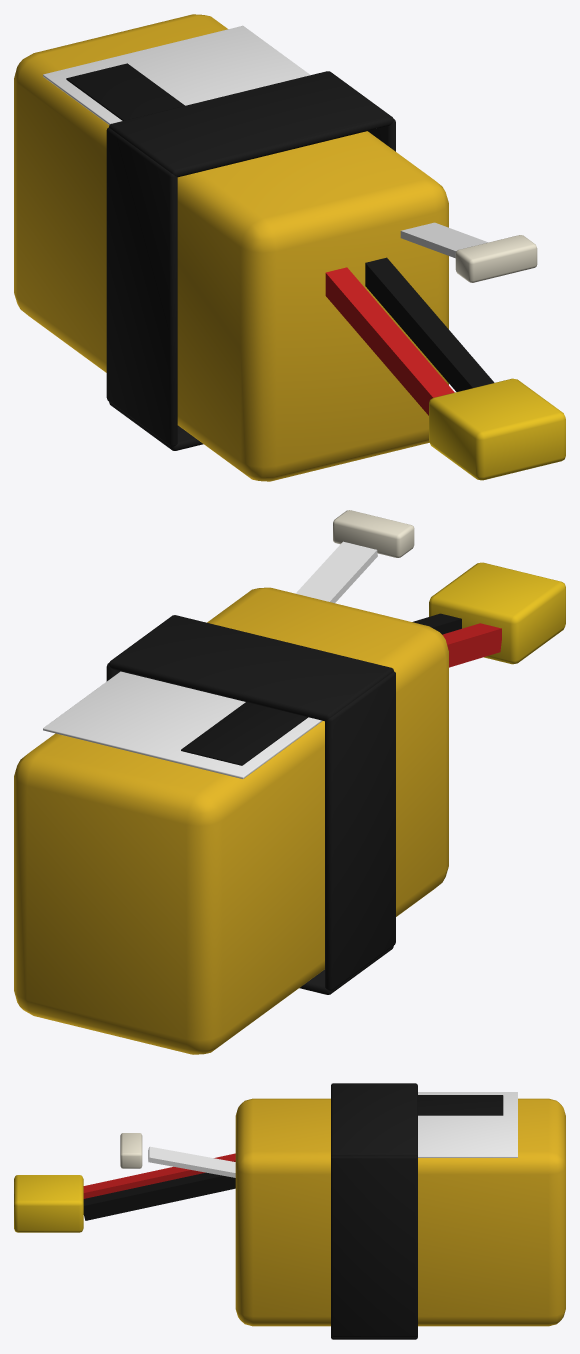
The model's file is batt_6s1300.glb.
The picture shows the model from 3 angles, top to bottom: view 1: azimuth 30°, elevation 25°; view 2: azimuth 150°, elevation 25°; view 3: azimuth 270°, elevation 25°; orthographic projection. The views are drawn at different scales.
Visible parts, largest first — view 1: batt_6s1300_M_Wrap_6s1300, batt_6s1300_M_Strap, batt_6s1300_M_Label, batt_6s1300_M_XT60, batt_6s1300_M_WireBlack, batt_6s1300_M_WireRed, batt_6s1300_M_Connector; view 2: batt_6s1300_M_Wrap_6s1300, batt_6s1300_M_Strap, batt_6s1300_M_Label, batt_6s1300_M_XT60, batt_6s1300_M_WireBlack, batt_6s1300_M_Connector, batt_6s1300_M_WireRed; view 3: batt_6s1300_M_Wrap_6s1300, batt_6s1300_M_Strap, batt_6s1300_M_Label, batt_6s1300_M_WireBlack, batt_6s1300_M_XT60, batt_6s1300_M_WireRed, batt_6s1300_M_Connector.
Boxes of the visible parts, box(x1,y1,x2,y2) form: batt_6s1300_M_Wrap_6s1300: box(14, 14, 448, 481); batt_6s1300_M_Strap: box(106, 71, 395, 450); batt_6s1300_M_Label: box(43, 25, 488, 258); batt_6s1300_M_XT60: box(429, 378, 565, 480); batt_6s1300_M_WireBlack: box(66, 63, 494, 391); batt_6s1300_M_WireRed: box(325, 267, 454, 415); batt_6s1300_M_Connector: box(455, 235, 537, 282); batt_6s1300_M_Wrap_6s1300: box(14, 587, 448, 1054); batt_6s1300_M_Strap: box(106, 615, 395, 994); batt_6s1300_M_Label: box(43, 541, 377, 778); batt_6s1300_M_XT60: box(429, 562, 565, 664); batt_6s1300_M_WireBlack: box(181, 613, 461, 765); batt_6s1300_M_Connector: box(333, 510, 414, 557); batt_6s1300_M_WireRed: box(442, 623, 501, 667); batt_6s1300_M_Wrap_6s1300: box(235, 1098, 565, 1326); batt_6s1300_M_Strap: box(331, 1083, 417, 1339); batt_6s1300_M_Label: box(148, 1092, 517, 1177); batt_6s1300_M_WireBlack: box(83, 1095, 503, 1220); batt_6s1300_M_XT60: box(14, 1175, 83, 1232); batt_6s1300_M_WireRed: box(83, 1153, 235, 1198); batt_6s1300_M_Connector: box(120, 1133, 142, 1168).
Size of the model in its own units: 0.0398 by 0.0473 by 0.127.
